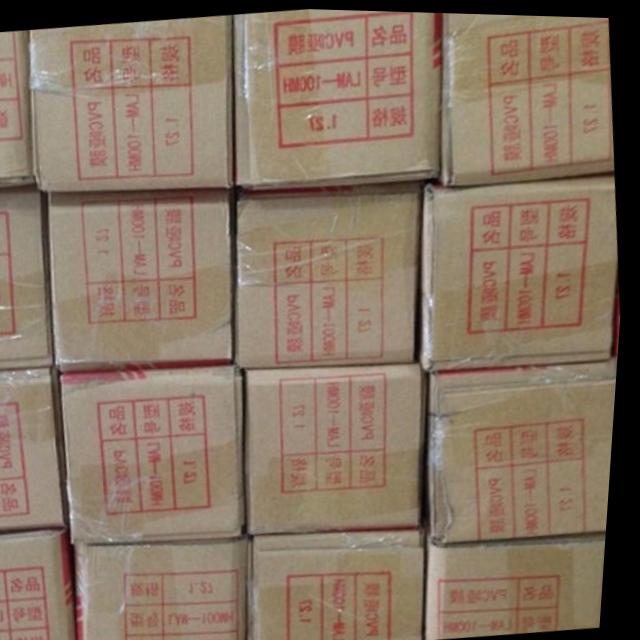box: (230, 8, 442, 192), (425, 173, 617, 370), (428, 358, 622, 544), (31, 15, 231, 191), (235, 181, 426, 364), (50, 191, 238, 368), (65, 368, 252, 543), (441, 10, 616, 184), (249, 362, 429, 531), (259, 527, 431, 640), (433, 535, 613, 635), (83, 539, 256, 640), (0, 366, 76, 534), (0, 186, 59, 368), (0, 530, 87, 640), (0, 32, 37, 190)
